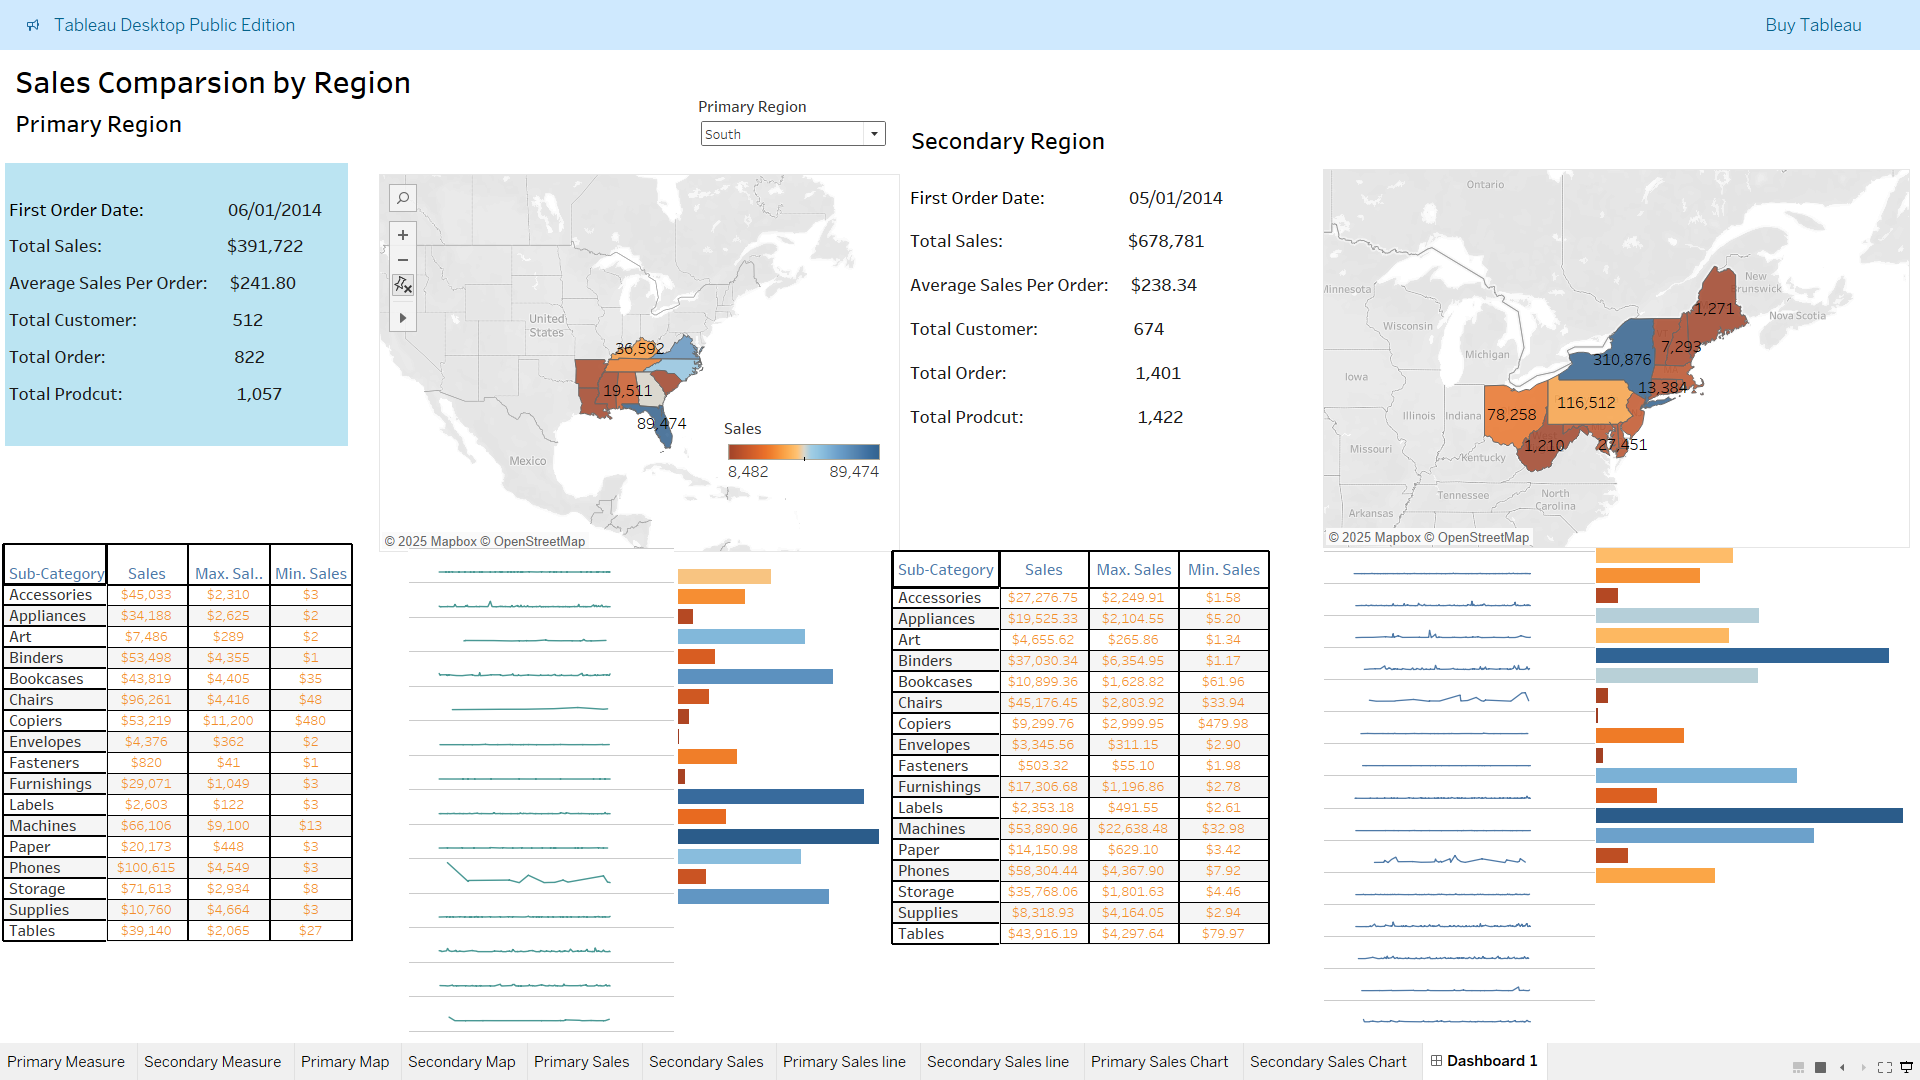

This screenshot's page, from the dashboard's own definition file:
{"tool":"tableau","page":{"name":"Dashboard 1","canvas":[1000,1000],"units":"permille","ordinal":0},"visuals":[{"type":"text","box":[4.8,10,990.3,56.2]},{"type":"filter","title":"Primary Map","param":"[federated.1kiomp1016qgq4127ceuf16atmok].[none:Region:nk]","box":[363.8,46.2,99.7,76.2]},{"type":"text","box":[4.8,66.2,990.3,49.9]},{"type":"text","box":[472.9,66.2,527.1,47.4]},{"type":"worksheet","title":"Primary Measure","mark":"Automatic","box":[2.4,113.6,229.6,423.2]},{"type":"worksheet","title":"Secondary Measure","mark":"Automatic","box":[471.9,113.6,250.2,494.4]},{"type":"worksheet","title":"Secondary Map","mark":"Automatic","box":[688.8,119.9,305.7,382]},{"type":"worksheet","title":"Primary Map","mark":"Automatic","box":[197.6,124.8,271.3,380.8]},{"type":"legend","title":"Primary Map","param":"[federated.1kiomp1016qgq4127ceuf16atmok].[sum:Sales:qk]","box":[377.3,370.8,83.2,109.9]},{"type":"worksheet","title":"Secondary Sales","mark":"Automatic","rows":["Sub-Category"],"box":[1.2,496.9,229,504.4]},{"type":"parameter","param":"[Parameters].[Parameter 1]","box":[829.6,496.9,170.4,69.9]},{"type":"worksheet","title":"Secondary Sales line","mark":"Automatic","rows":["Sub-Category","Sales"],"cols":["Order Date"],"box":[688.8,504.4,142,485.6]},{"type":"worksheet","title":"Primary Sales Chart","mark":"Automatic","rows":["Sub-Category"],"cols":["Sales"],"box":[350.4,515.6,114.8,439.4]},{"type":"filter","title":"Secondary Measure","param":"[federated.1kiomp1016qgq4127ceuf16atmok].[none:Region:nk]","box":[829.6,566.8,170.4,188.5]}]}

Visuals, with their boxes on the dashboard's canvas, which has no fixed pixel size, in thousandths of its width and height (x1, y1, x2, y2). These are canvas units, not pixel positions in the 1920x1080 screenshot, which may show the page scaled, cropped or inside an application window:
text: 5,10,995,66
"Primary Map" filter: 364,46,464,122
text: 5,66,995,116
text: 473,66,1000,114
"Primary Measure" worksheet: 2,114,232,537
"Secondary Measure" worksheet: 472,114,722,608
"Secondary Map" worksheet: 689,120,994,502
"Primary Map" worksheet: 198,125,469,506
"Primary Map" legend: 377,371,460,481
"Secondary Sales" worksheet: 1,497,230,1001
parameter: 830,497,1000,567
"Secondary Sales line" worksheet: 689,504,831,990
"Primary Sales Chart" worksheet: 350,516,465,955
"Secondary Measure" filter: 830,567,1000,755
